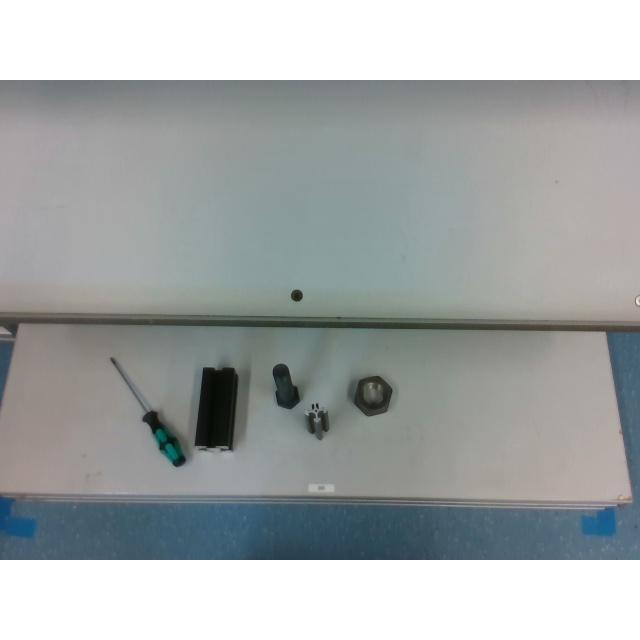F20_20_B: (308, 403, 328, 439)
M20_100: (272, 364, 300, 408)
M30: (354, 376, 392, 416)
S40_40_B: (195, 366, 237, 449)
Screwdriver: (111, 358, 185, 466)
